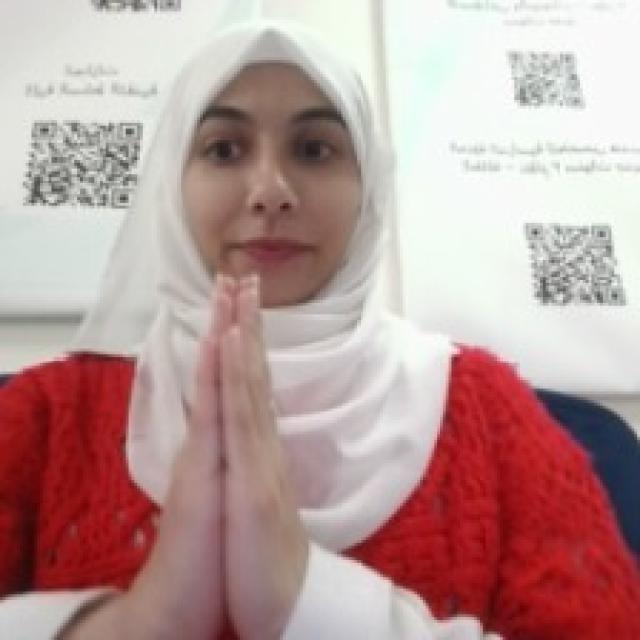sorry: (149, 280, 314, 637)
